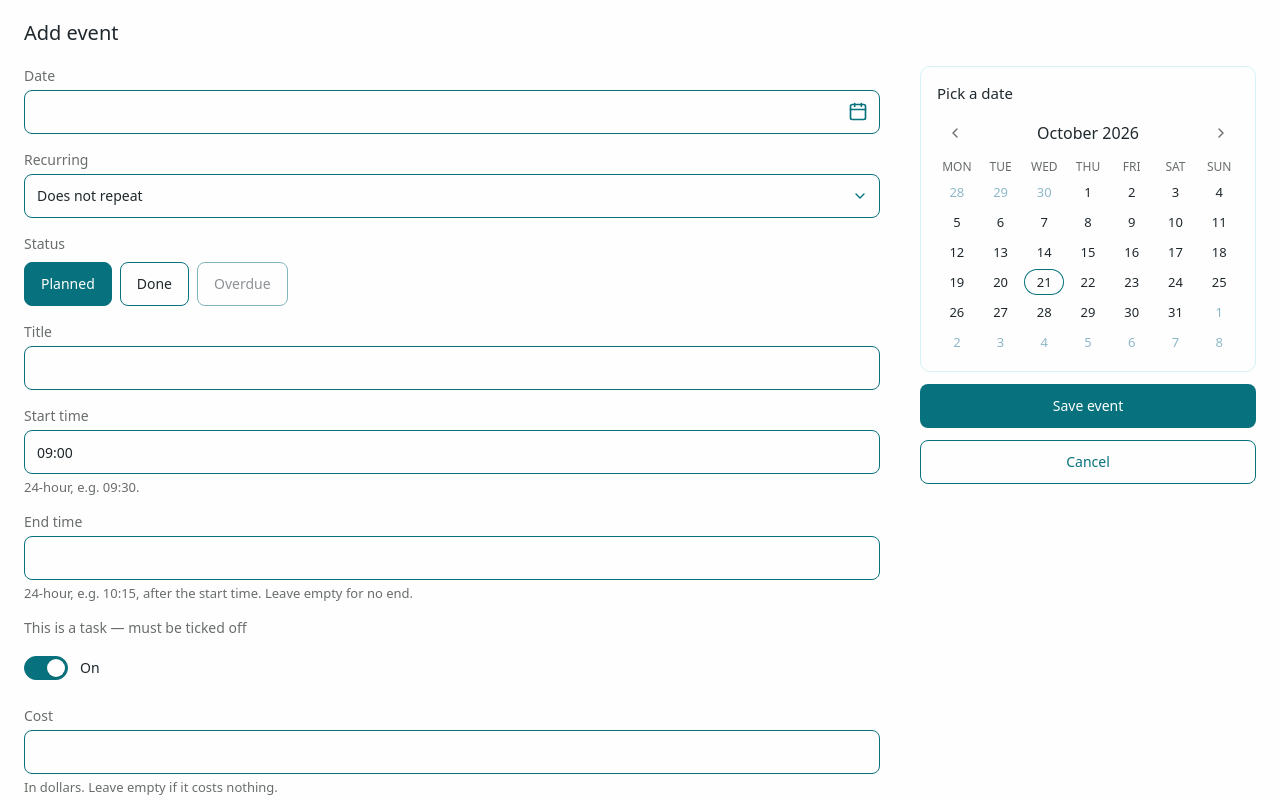
Test case: [CAR-07][AC-06] a shift that ends mid-form refuses the save and keeps the form › [CAR-07][AC-06] T-06 any other failure keeps the generic message, not the shift-ended one
Click the button with test id "^date-picker-day-": (957, 192) x1=937 y1=179 x2=977 y2=205
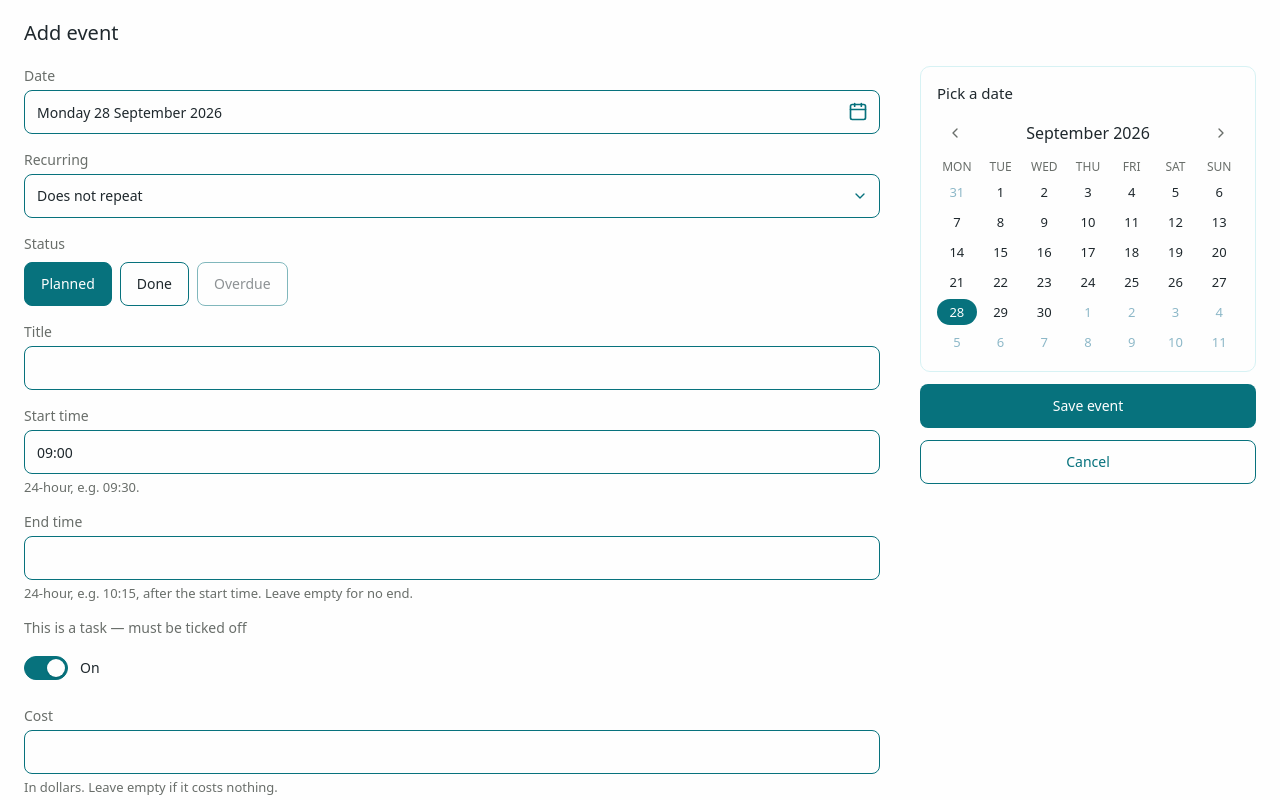
In the field labelled "Title": (452, 368) x1=24 y1=346 x2=880 y2=390, type "Walk in the garden"
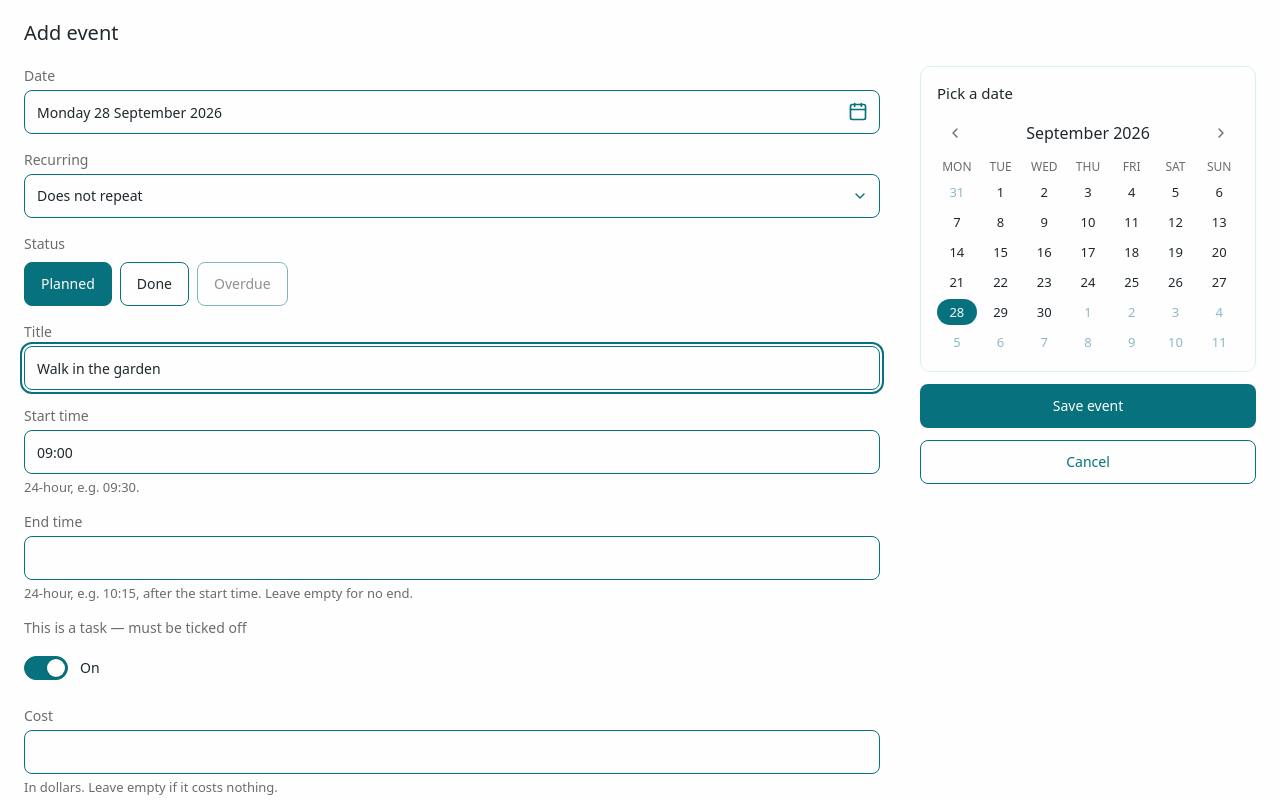
Click the button "Save event": (1088, 406) x1=920 y1=384 x2=1256 y2=428
(page scrolled)
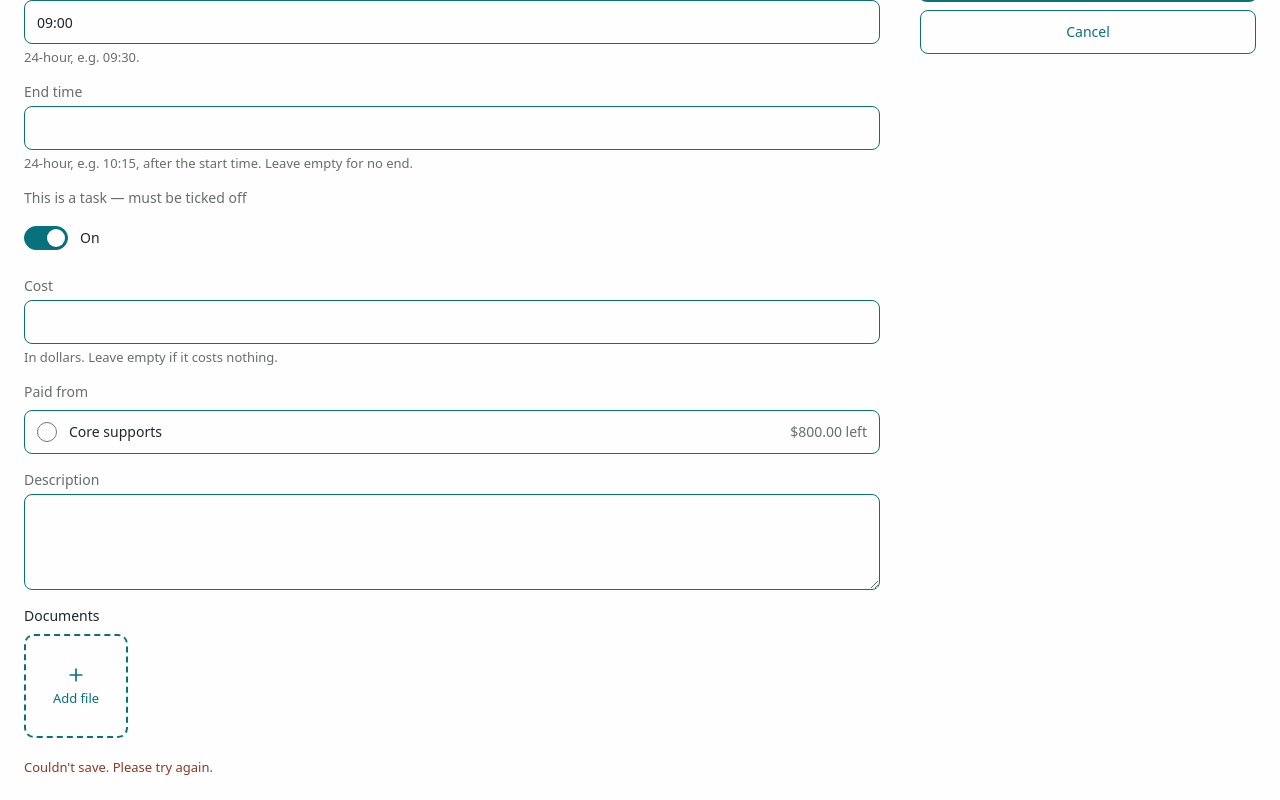
Check: the text "Couldn't save. Please try again." is shown, box x1=24 y1=758 x2=213 y2=776
